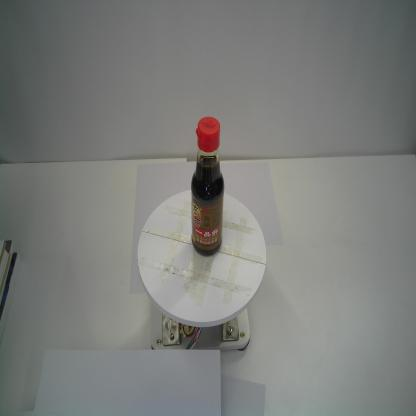Seasoner: (190, 116, 224, 257)
